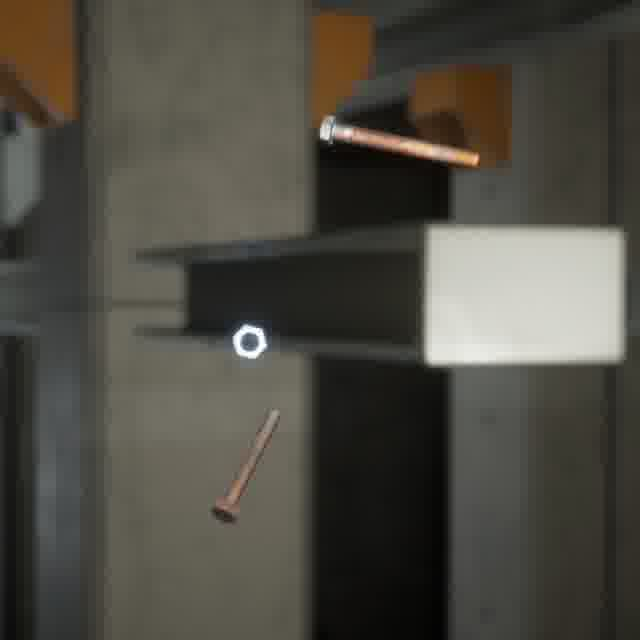bolt: (315, 111, 484, 173), (206, 403, 286, 527)
nut: (227, 319, 272, 364)
